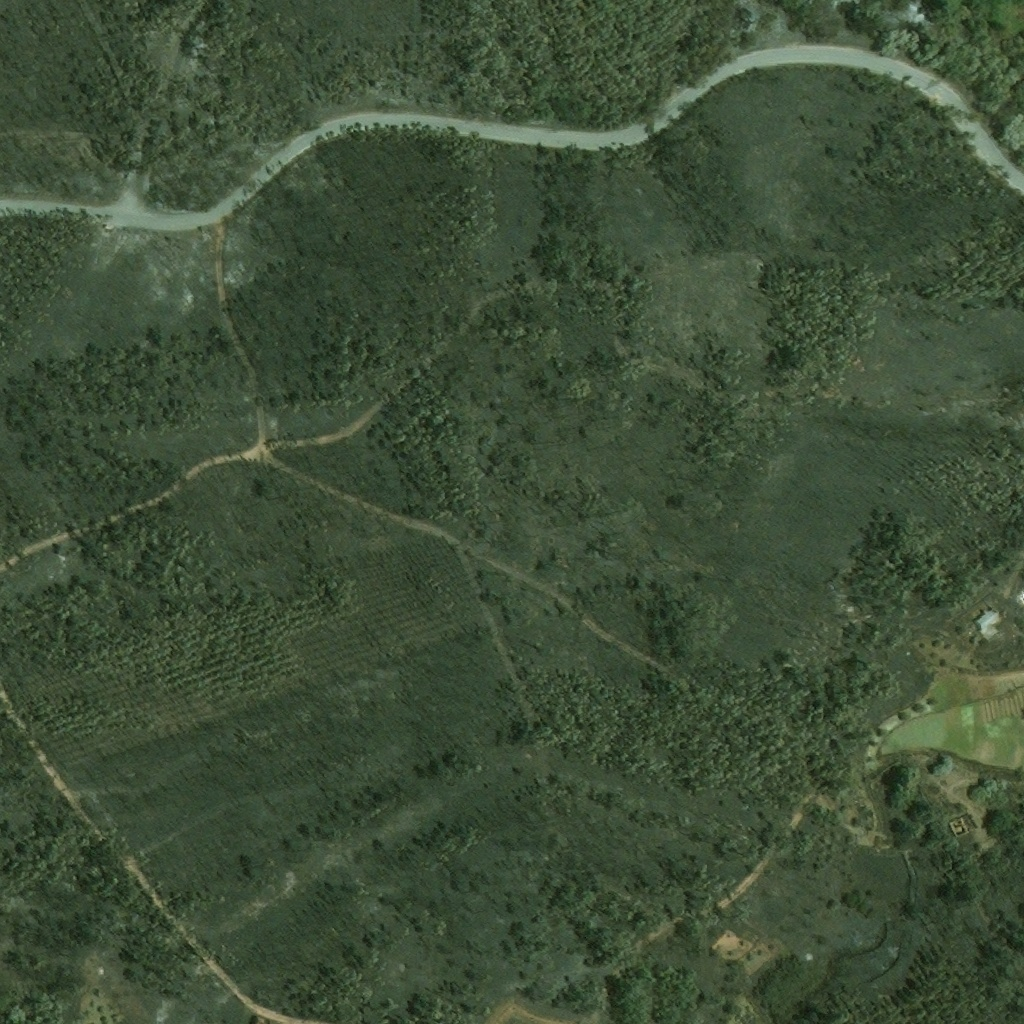0 no-damage: (971, 604, 1004, 632)
4 un-classified: (251, 1013, 281, 1023), (1014, 580, 1023, 598)
